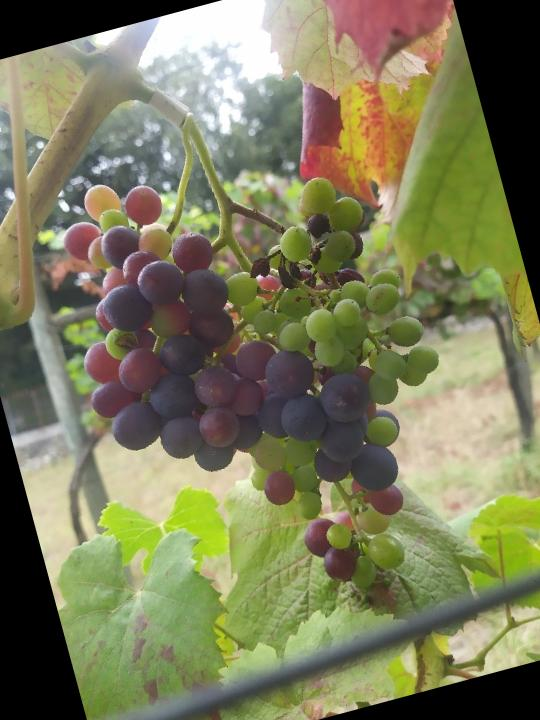grape: (32, 106, 495, 649)
